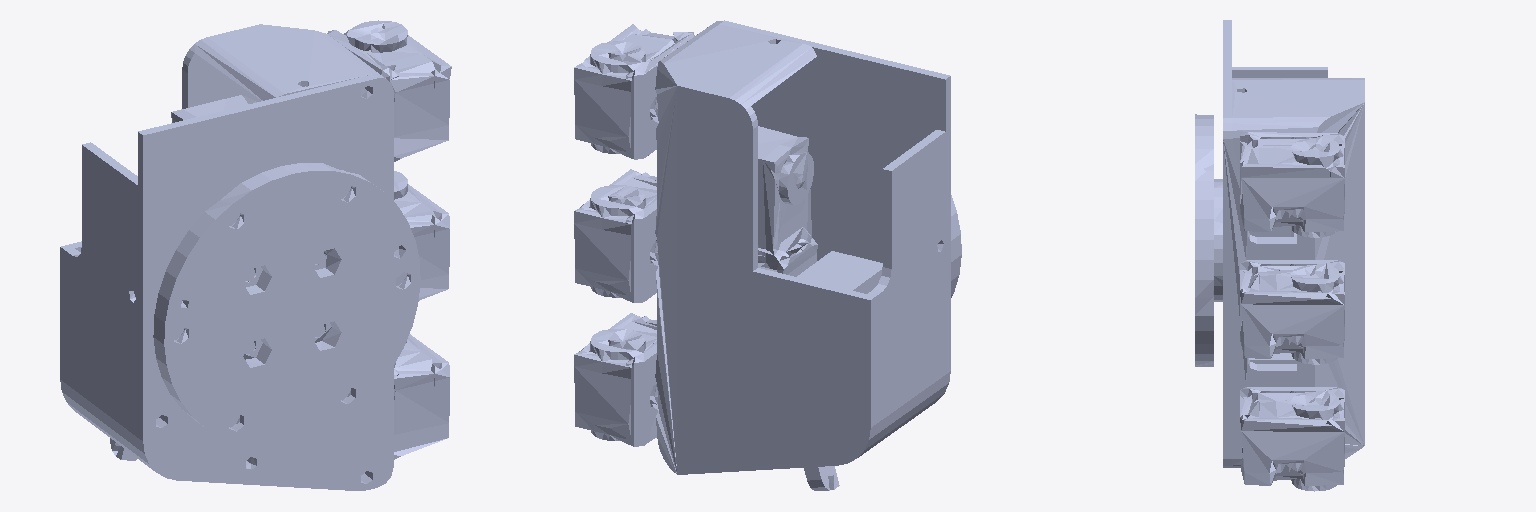
robot.urdf — palm1:
<?xml version="1.0" encoding="utf-8"?>
<!-- This URDF was automatically created by SolidWorks to URDF Exporter! Originally created by [author] ([email redacted]) 
     Commit Version: 1.6.0-4-g7f85cfe  Build Version: 1.6.7995.38578
     For more information, please see http://wiki.ros.org/sw_urdf_exporter -->
<robot
  name="palm1">
  <link
    name="base_link">
    <inertial>
      <origin
        xyz="-5.6485451076391E-06 6.03997626400469E-06 2.05175063346715E-05"
        rpy="0 0 0" />
      <mass
        value="3.19343663145282E-11" />
      <inertia
        ixx="1.24711139664769E-20"
        ixy="7.42950023163628E-24"
        ixz="5.88640924069087E-24"
        iyy="1.2348284600344E-20"
        iyz="1.20366607892645E-24"
        izz="2.45159569221095E-20" />
    </inertial>
    <visual>
      <origin
        xyz="0 0 0"
        rpy="0 0 0" />
      <geometry>
        <mesh
          filename="package://palm1/meshes/base_link.STL" />
      </geometry>
      <material
        name="">
        <color
          rgba="0.792156862745098 0.819607843137255 0.933333333333333 1" />
      </material>
    </visual>
    <collision>
      <origin
        xyz="0 0 0"
        rpy="0 0 0" />
      <geometry>
        <mesh
          filename="package://palm1/meshes/base_link.STL" />
      </geometry>
    </collision>
  </link>
  <link
    name="palm_Link">
    <inertial>
      <origin
        xyz="-3.18276843813692E-05 -6.55628256822638E-05 3.1028199151071E-05"
        rpy="0 0 0" />
      <mass
        value="9.71232661681929E-13" />
      <inertia
        ixx="8.41900413941212E-23"
        ixy="2.53363645294033E-26"
        ixz="-1.10409664574448E-25"
        iyy="8.41895371604218E-23"
        iyz="7.23039495175192E-27"
        izz="2.53544897622052E-24" />
    </inertial>
    <visual>
      <origin
        xyz="0 0 0"
        rpy="0 0 0" />
      <geometry>
        <mesh
          filename="package://palm1/meshes/palm_Link.STL" />
      </geometry>
      <material
        name="">
        <color
          rgba="0.792156862745098 0.819607843137255 0.933333333333333 1" />
      </material>
    </visual>
    <collision>
      <origin
        xyz="0 0 0"
        rpy="0 0 0" />
      <geometry>
        <mesh
          filename="package://palm1/meshes/palm_Link.STL" />
      </geometry>
    </collision>
  </link>
  <joint
    name="palm_joint"
    type="fixed">
    <origin
      xyz="3.1828E-05 3.1028E-05 6.5563E-05"
      rpy="1.5708 0 0" />
    <parent
      link="base_link" />
    <child
      link="palm_Link" />
    <axis
      xyz="0 0 0" />
  </joint>
</robot>

--- Facts derived from the render (not from the file) ---
The picture shows the robot from 3 angles, left to right: view 1: azimuth 30°, elevation 25°; view 2: azimuth 150°, elevation 25°; view 3: azimuth 270°, elevation 25°; orthographic projection.
Robot: palm1 — 2 links, 1 joints (1 fixed); root link base_link; default pose: every joint at zero.
Links seen in each view (by area): view 1: palm_Link, base_link; view 2: palm_Link, base_link; view 3: palm_Link, base_link.
Link boxes in pixels (box(x1,y1,x2,y2)): palm_Link: box(60, 20, 451, 490); base_link: box(153, 163, 420, 445); palm_Link: box(574, 20, 950, 490); base_link: box(951, 195, 961, 297); palm_Link: box(1223, 20, 1364, 491); base_link: box(1195, 114, 1222, 366).
Size in the robot's own frame: 0.0001 by 0.0001 by 0.0001 metres.
Meshes: 2 distinct files referenced, 2 mesh visuals loaded (2 binary STL).
